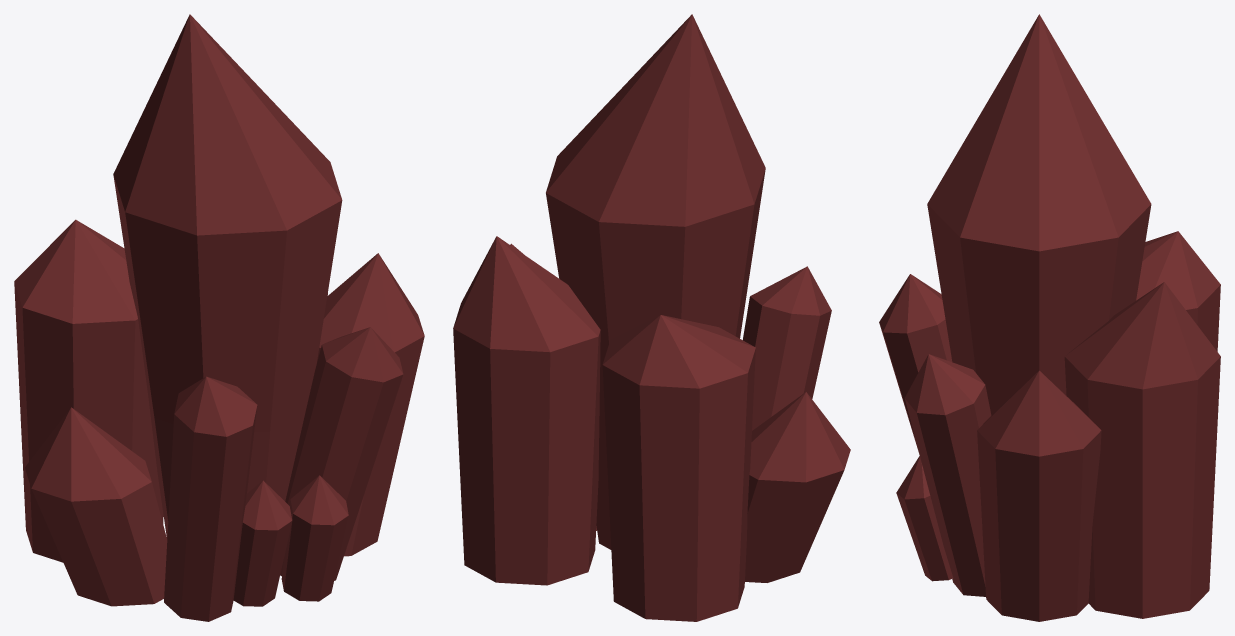
File: Cristal .fbx
3 renders of one model, left to right at view 1: azimuth 30°, elevation 25°; view 2: azimuth 150°, elevation 25°; view 3: azimuth 270°, elevation 25°, orthographic. The views are drawn at different scales.
Parts seen in each view (by area): view 1: Circle; view 2: Circle; view 3: Circle.
Boxes of the visible parts, <box> form: Circle: <box>14,14,424,621</box>; Circle: <box>453,14,850,621</box>; Circle: <box>879,14,1220,621</box>.
Size of the model in its own units: 55.92 by 77.74 by 45.25.
